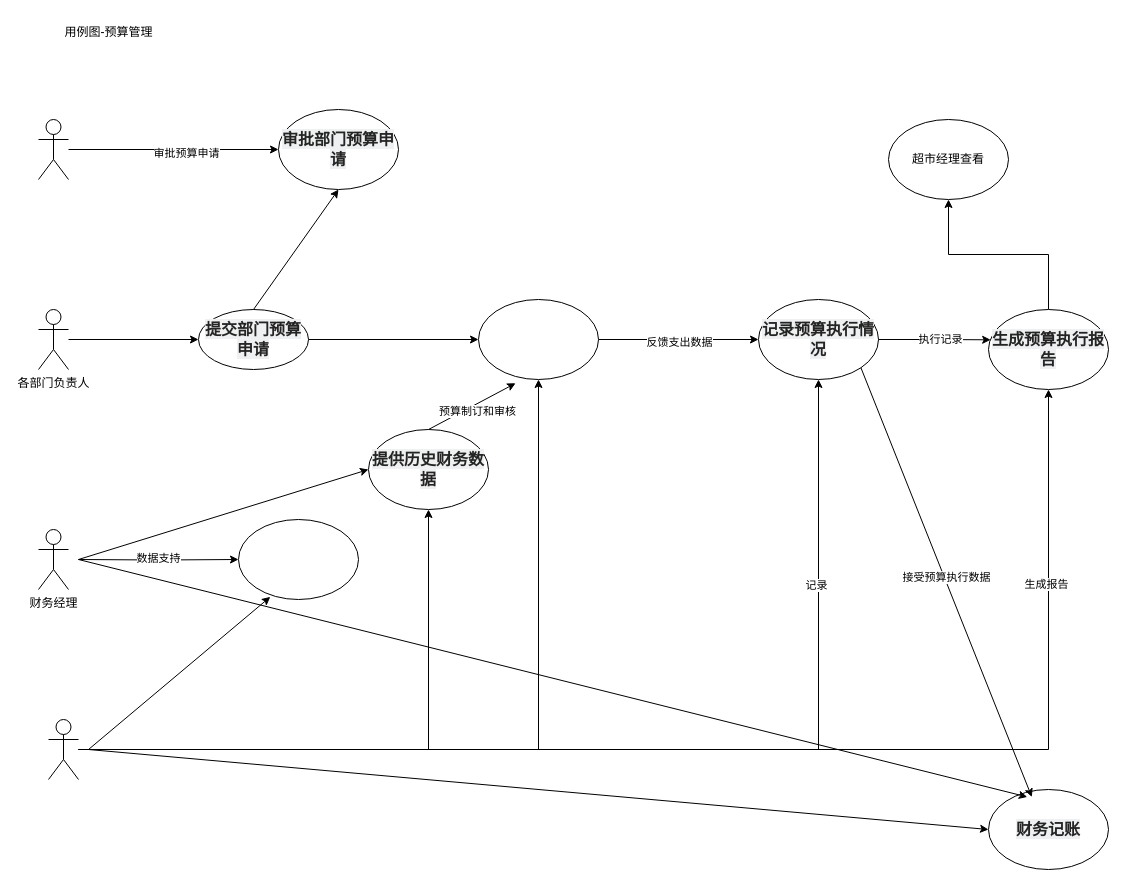
Some shapes in this 1126 by 887 pixel diagram are drawn without their labels. Here are the shapes that lost their labels. From the top down, the centre of each, then its label:
At pixel 53 149: "超市经理".
At pixel 538 339: "确定预算分配".
At pixel 298 559: "审核部门预算申请".
At pixel 63 749: "预算管理模块".
